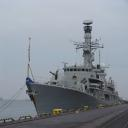Fragata: (26, 14, 122, 122)
